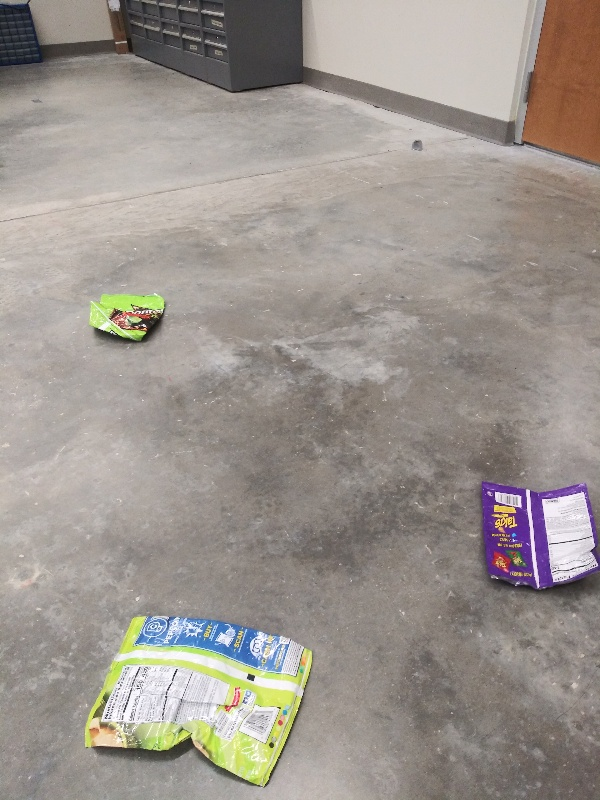bag: (80, 612, 319, 778), (471, 473, 600, 593), (86, 286, 169, 345)
